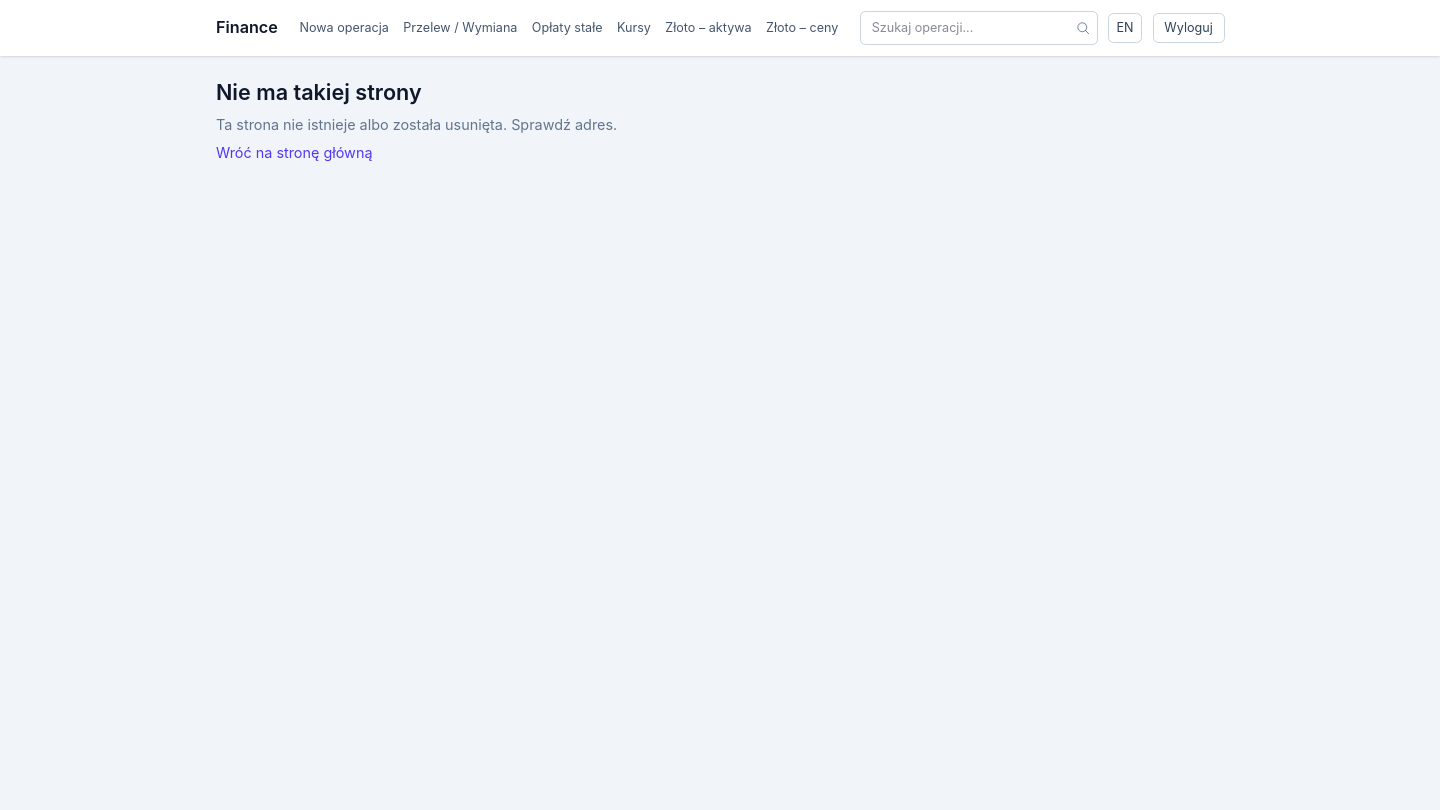
Test: logging in and out › logs out and forgets what was read
Step 1. Click the button "Wyloguj" → click(1188, 28), box [1152,13,1224,43]
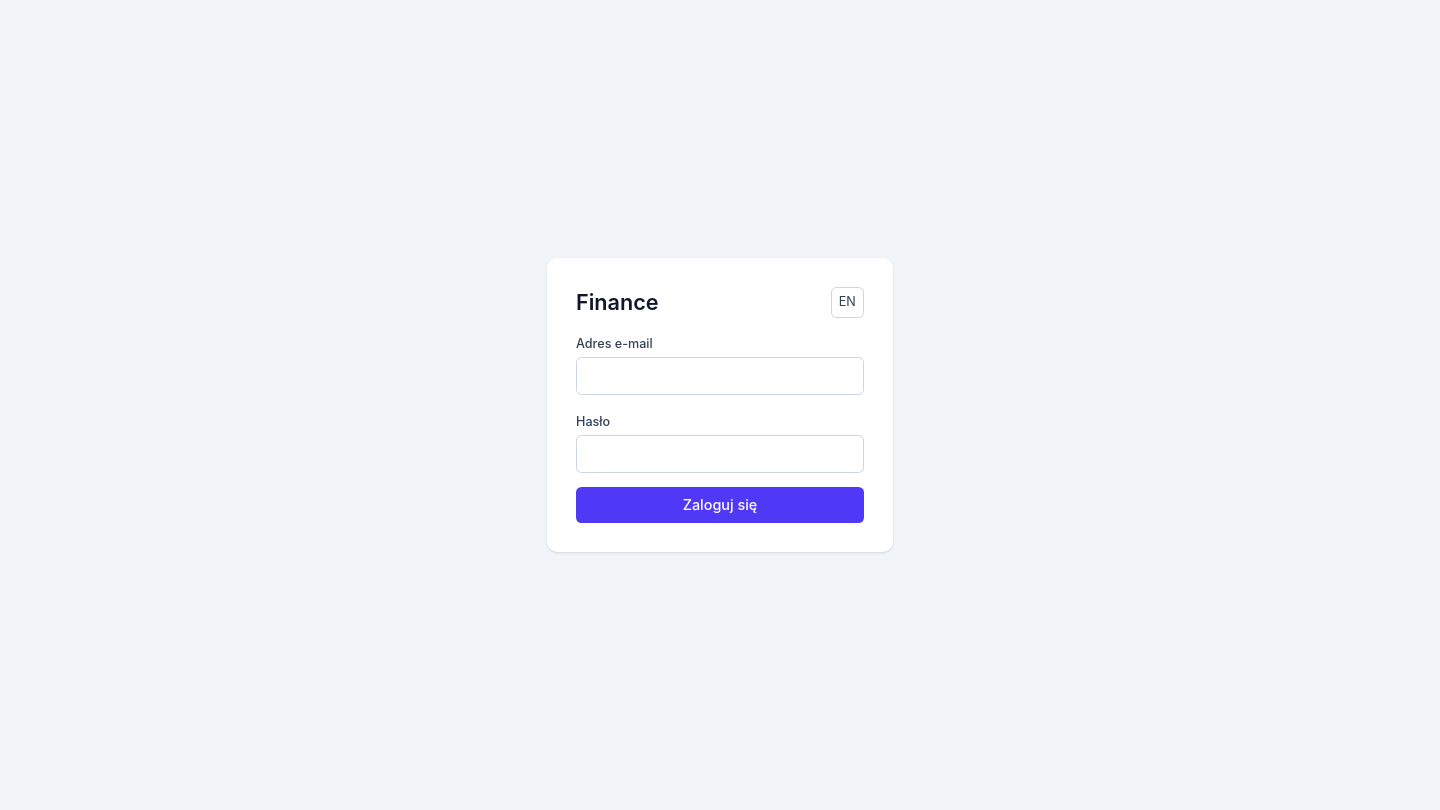
Now the button "Zaloguj się" is shown, box [576,487,864,523]
